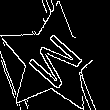M_SE: (20, 25, 87, 93)
